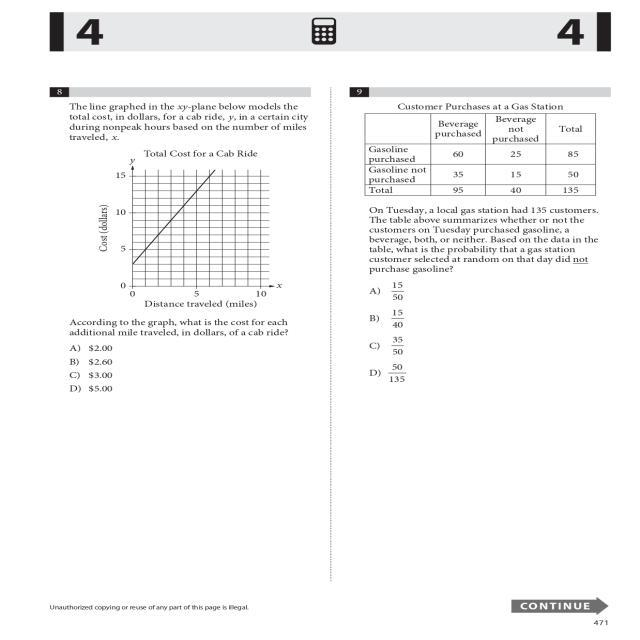Question_Paper_Area: (337, 81, 625, 578), (40, 83, 324, 579)
